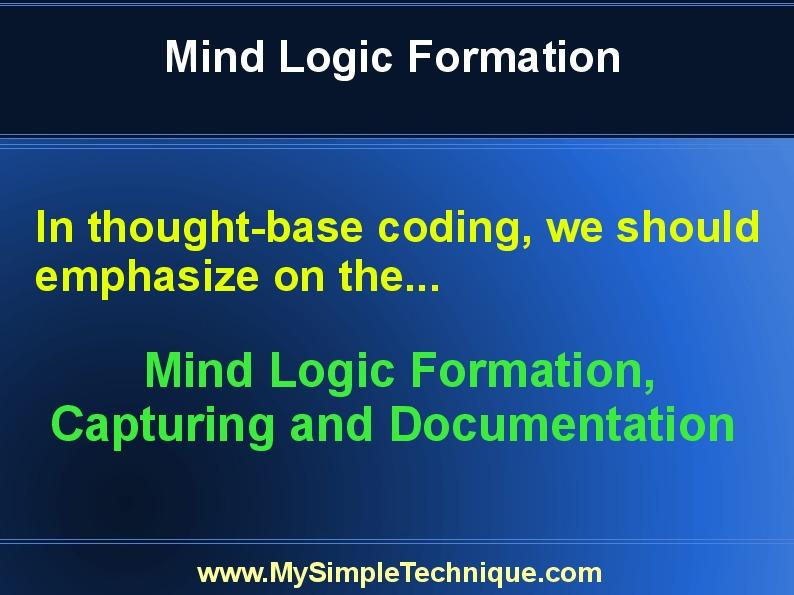subtitle: (23, 182, 782, 316), (28, 332, 758, 469)
title: (155, 21, 635, 100)
